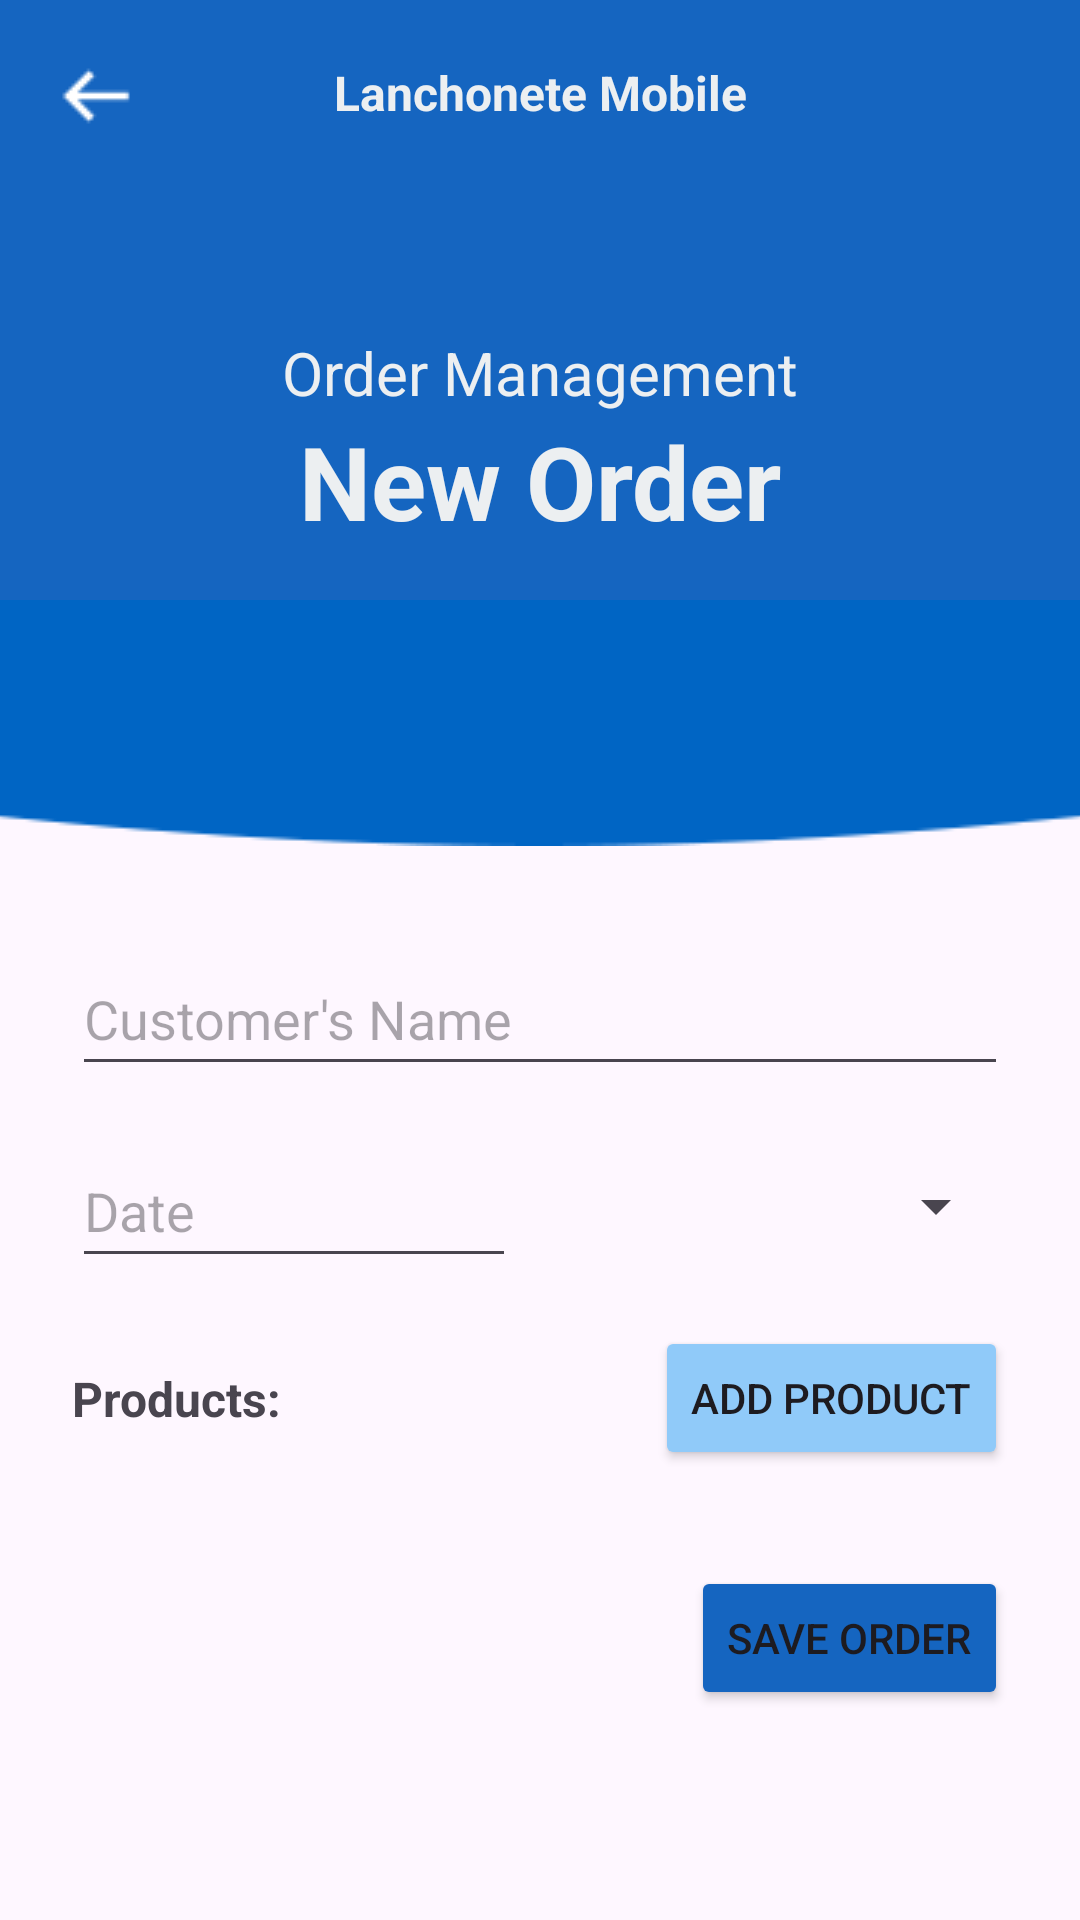

Locate icon controls on the screen. Image size 1080px x 1920px, boxes as [x1, y1, x2, y2].
back resize: [62, 69, 130, 123]
